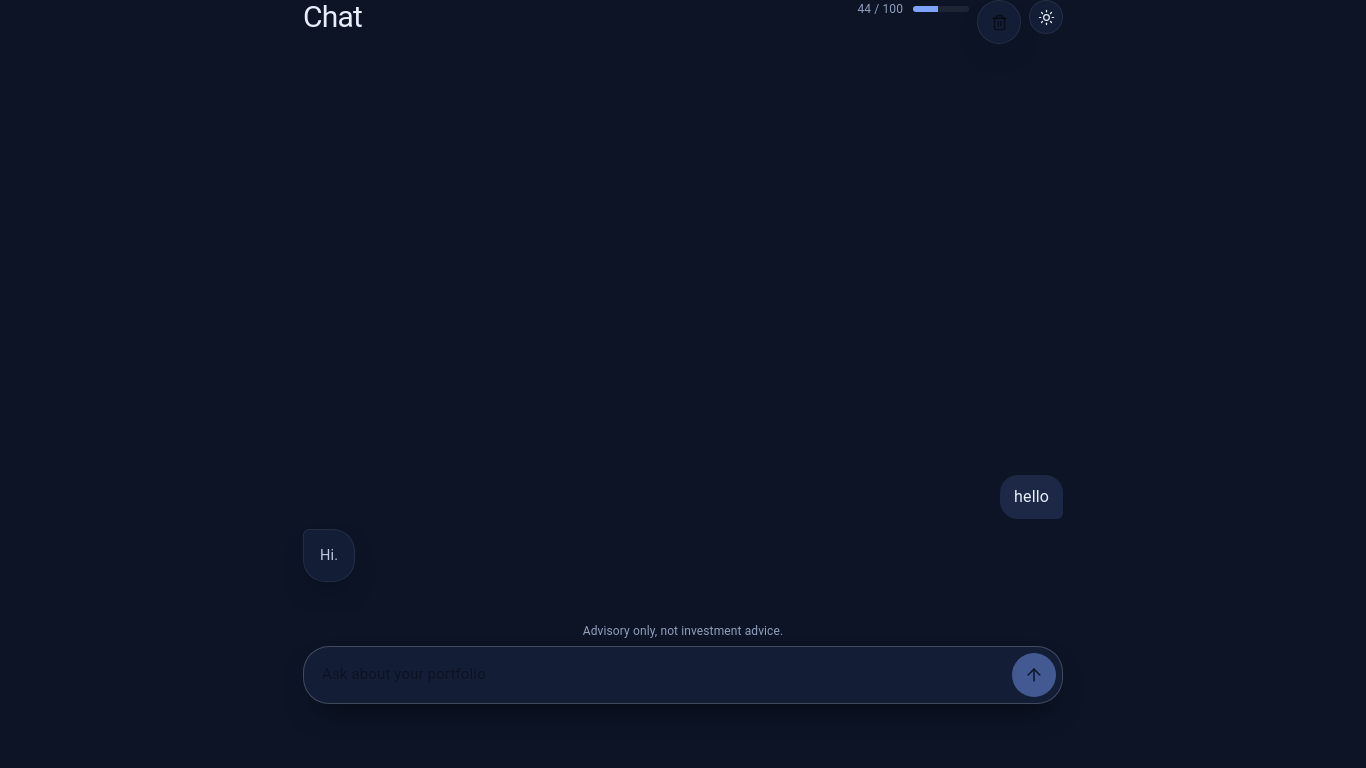
ChatPage › clears the conversation after a confirmation
Expected: the text "Hi." is shown, [320,544,338,567]
What coordinates should you click on to do the following:
click the button named "clear chat"
I would click on:
 (999, 22)
Its box is [977,0,1021,44].
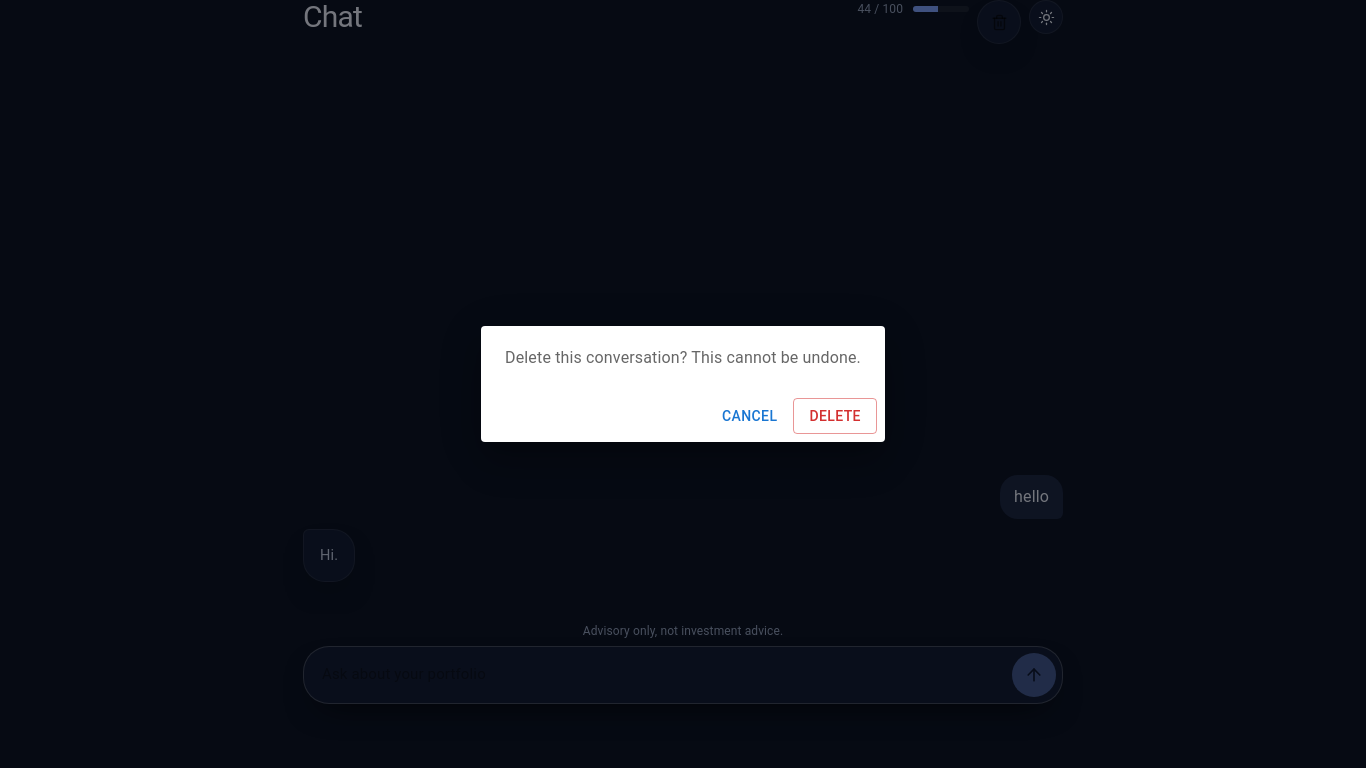
Expected: the text "Delete this conversation? This cannot be undone." is shown, [505,346,861,370]
What coordinates should you click on to do the following:
click the button "Delete"
I would click on:
 (835, 416)
Its box is [793,398,877,434].
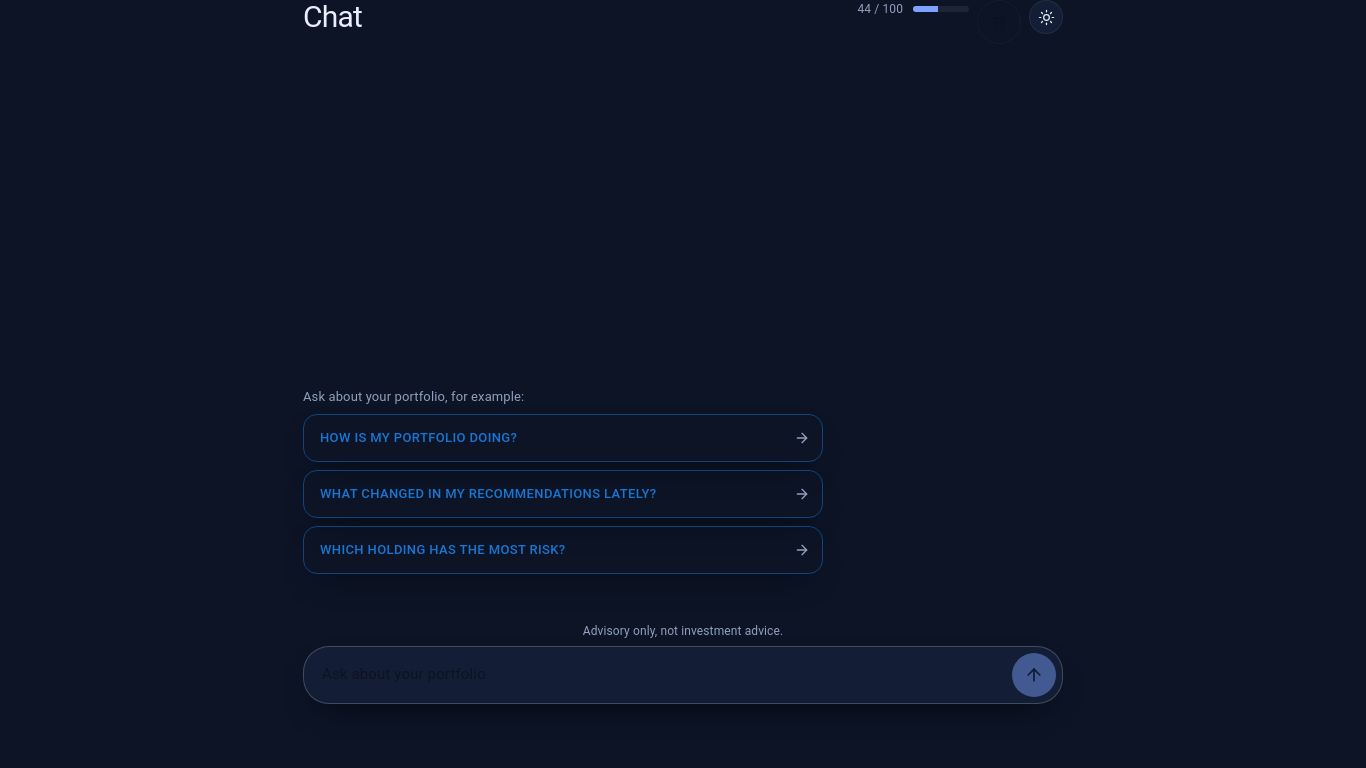
Expected: the button "How is my portfolio doing?" is shown, [303,414,823,462]
